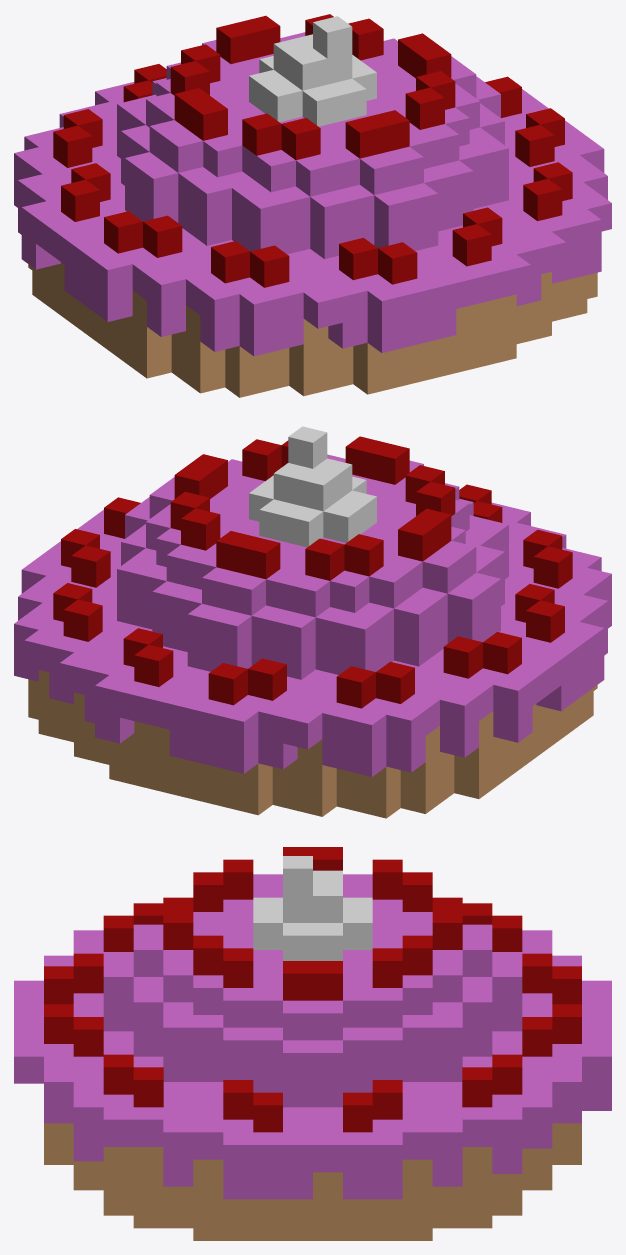
File: AS_Cake.glb
The picture shows the model from 3 angles, top to bottom: view 1: azimuth 30°, elevation 25°; view 2: azimuth 150°, elevation 25°; view 3: azimuth 270°, elevation 25°; orthographic projection. The views are drawn at different scales.
Visible parts, largest first — view 1: Untitled; view 2: Untitled; view 3: Untitled.
Boxes of the visible parts, x1,y1,x2,y2 form: Untitled: (14, 14, 611, 397); Untitled: (14, 426, 611, 818); Untitled: (14, 847, 611, 1240).
Bounding box in the file's own units: 4 × 2 × 4.
Materials: 1 (1 with a texture image).
